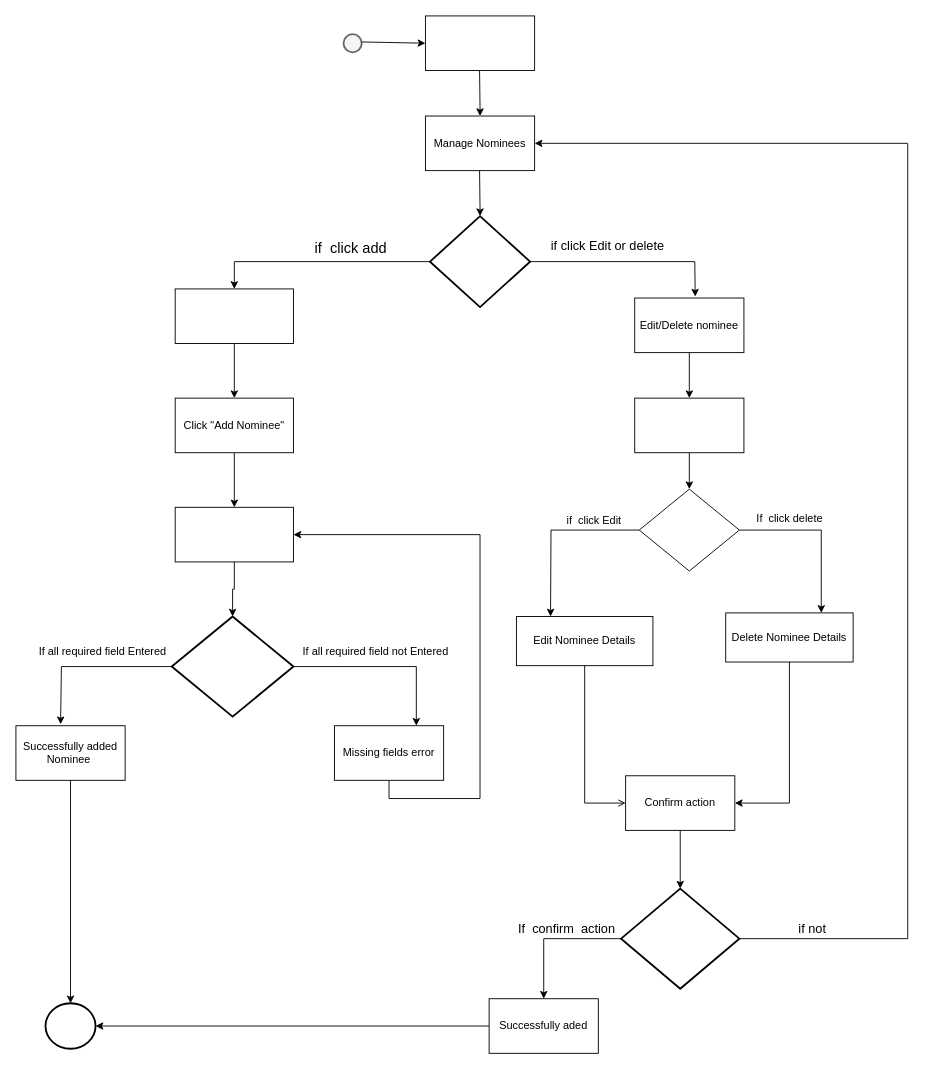
Some shapes in this 931 by 1069 pixel diagram are drawn without their labels. The centre of each missing label's shape, as x and y in pixels:
Add nominee: [233,316]
Event Manager logs into the system.: [480,43]
Select nominee: [689,425]
System prompt to enter nominee details: [233,534]
